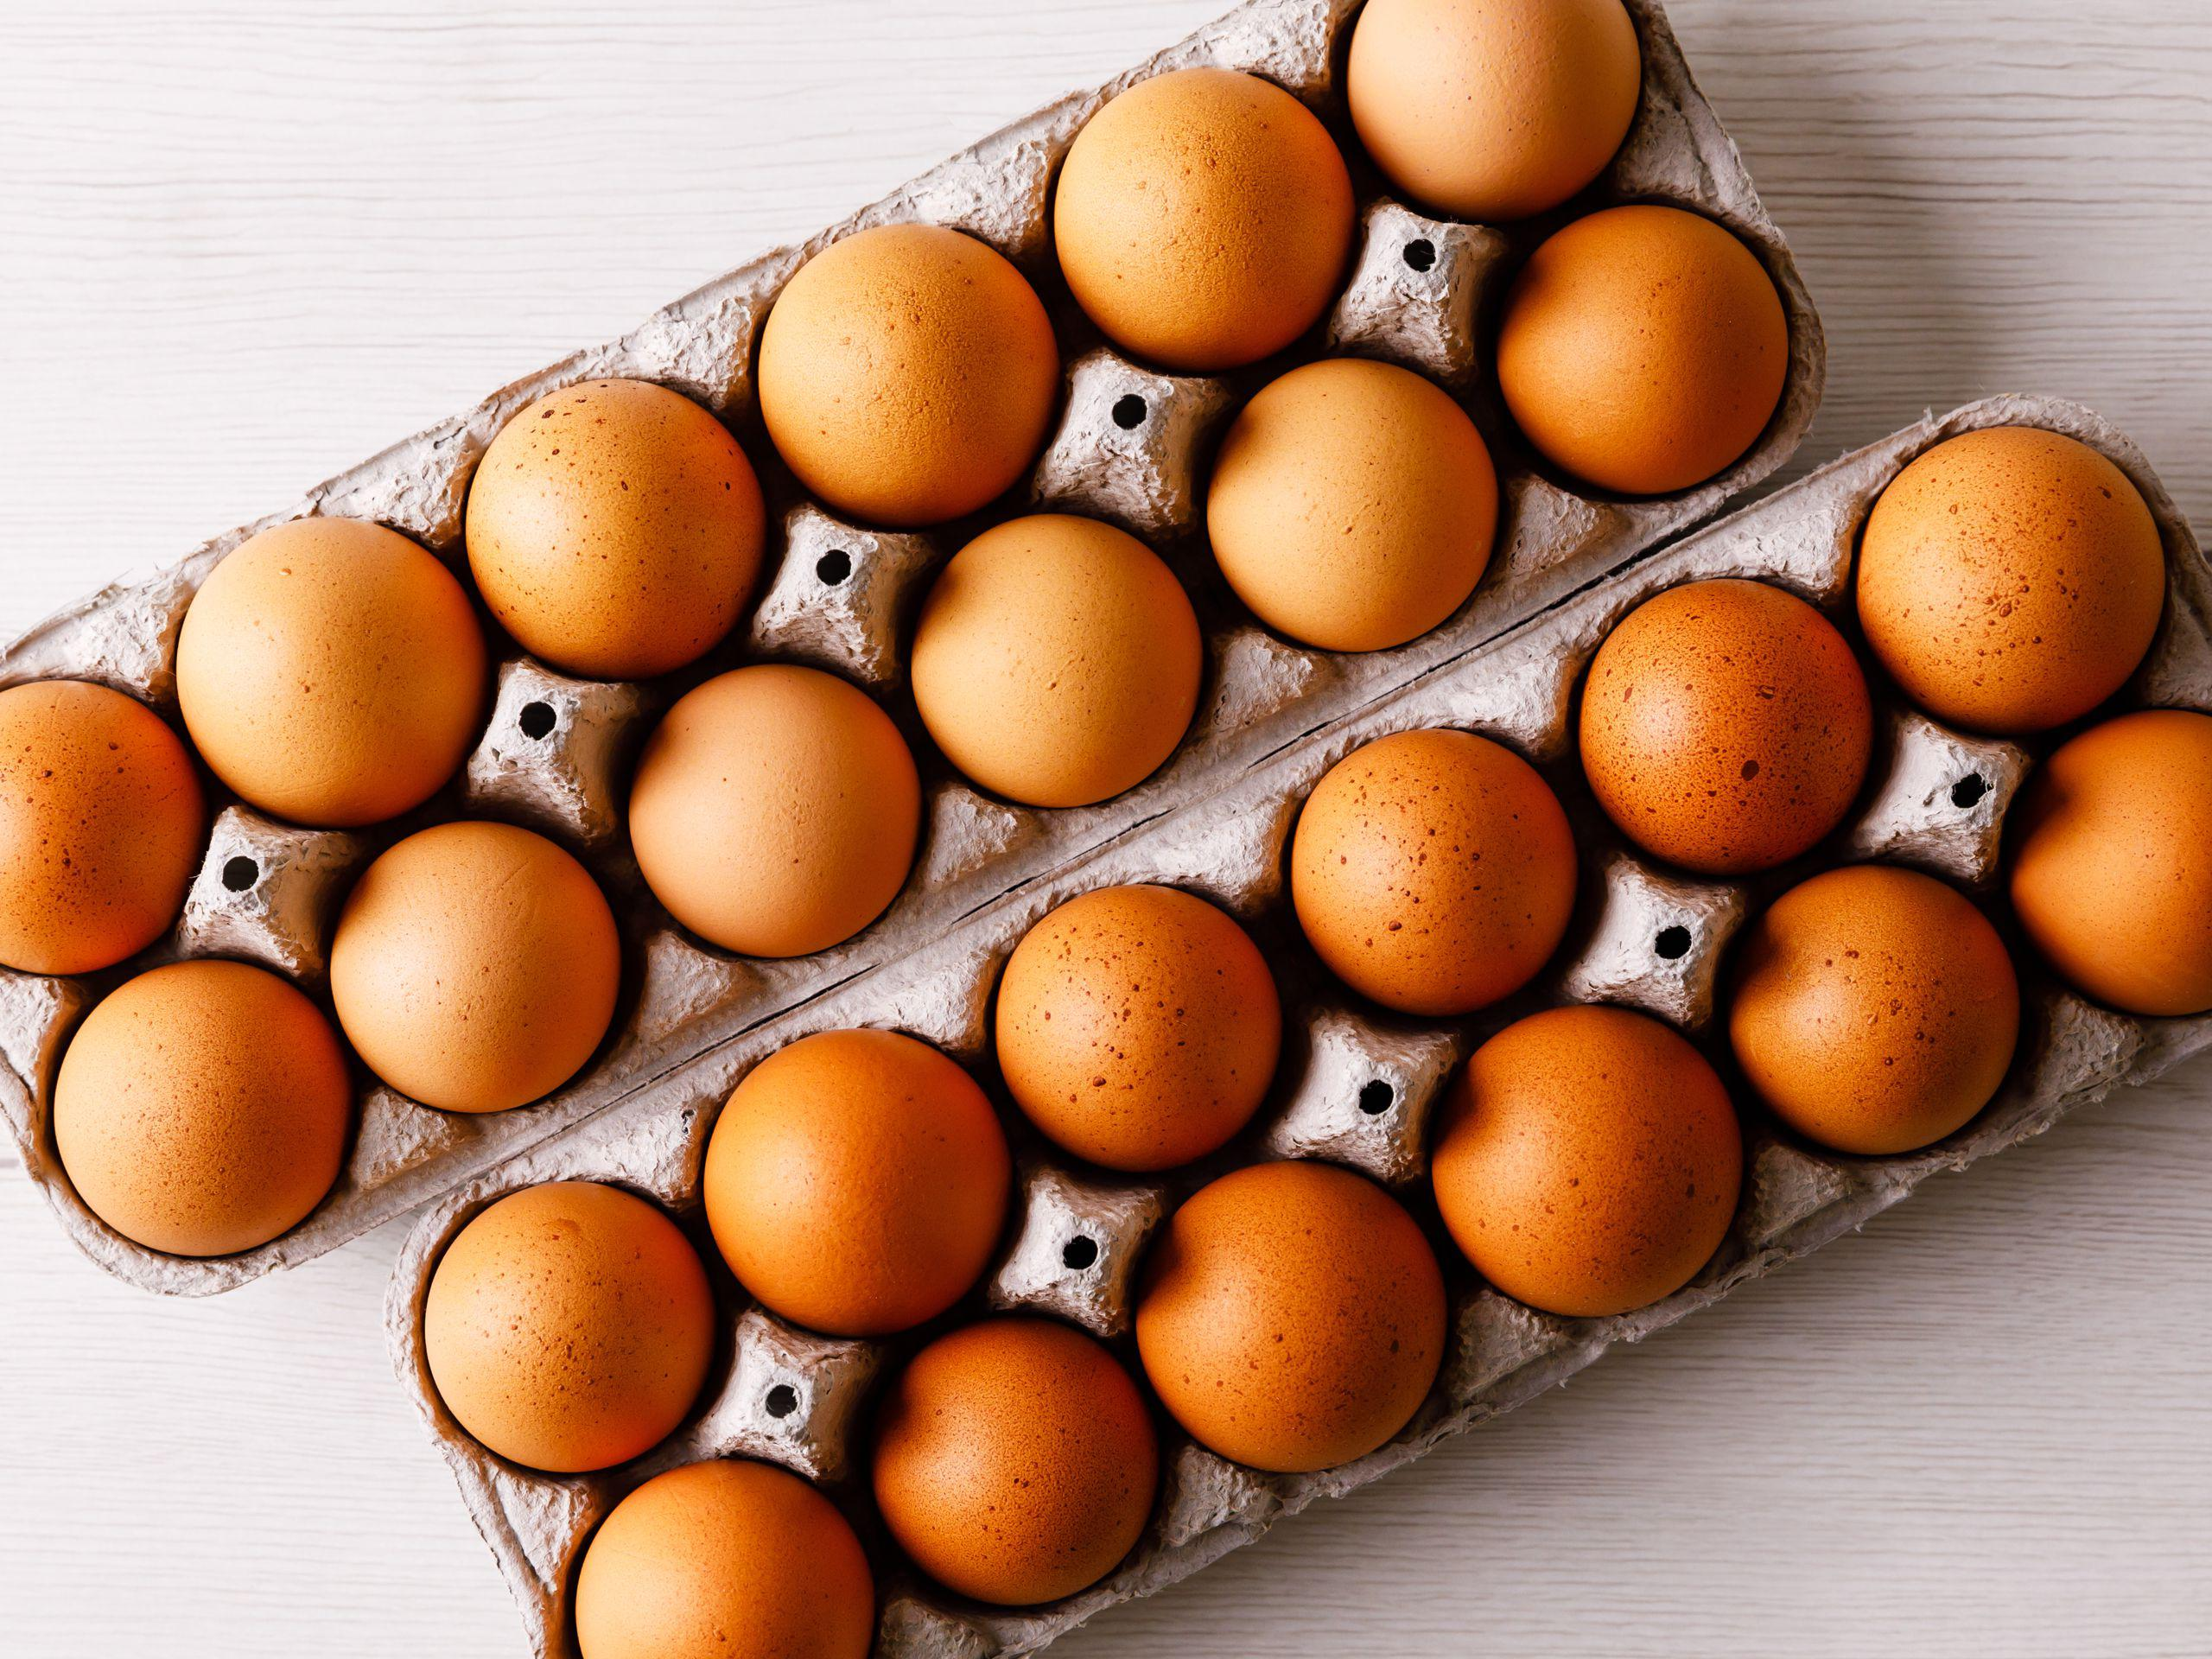egg: (138, 504, 514, 824), (1406, 985, 1747, 1333), (1103, 1148, 1456, 1478), (1841, 410, 2177, 753), (676, 1021, 1014, 1349), (303, 798, 632, 1126), (604, 636, 928, 969), (1181, 328, 1501, 660), (31, 950, 364, 1267), (732, 218, 1068, 528), (1036, 59, 1367, 371), (1484, 185, 1797, 511), (1568, 568, 1886, 882), (890, 500, 1205, 816), (1726, 836, 2027, 1164), (415, 1171, 726, 1486), (852, 1303, 1158, 1621), (455, 371, 772, 678), (1280, 716, 1587, 1028), (974, 877, 1291, 1176), (1324, 0, 1655, 228), (0, 647, 211, 971), (2019, 702, 2212, 1040), (559, 1455, 873, 1659)
